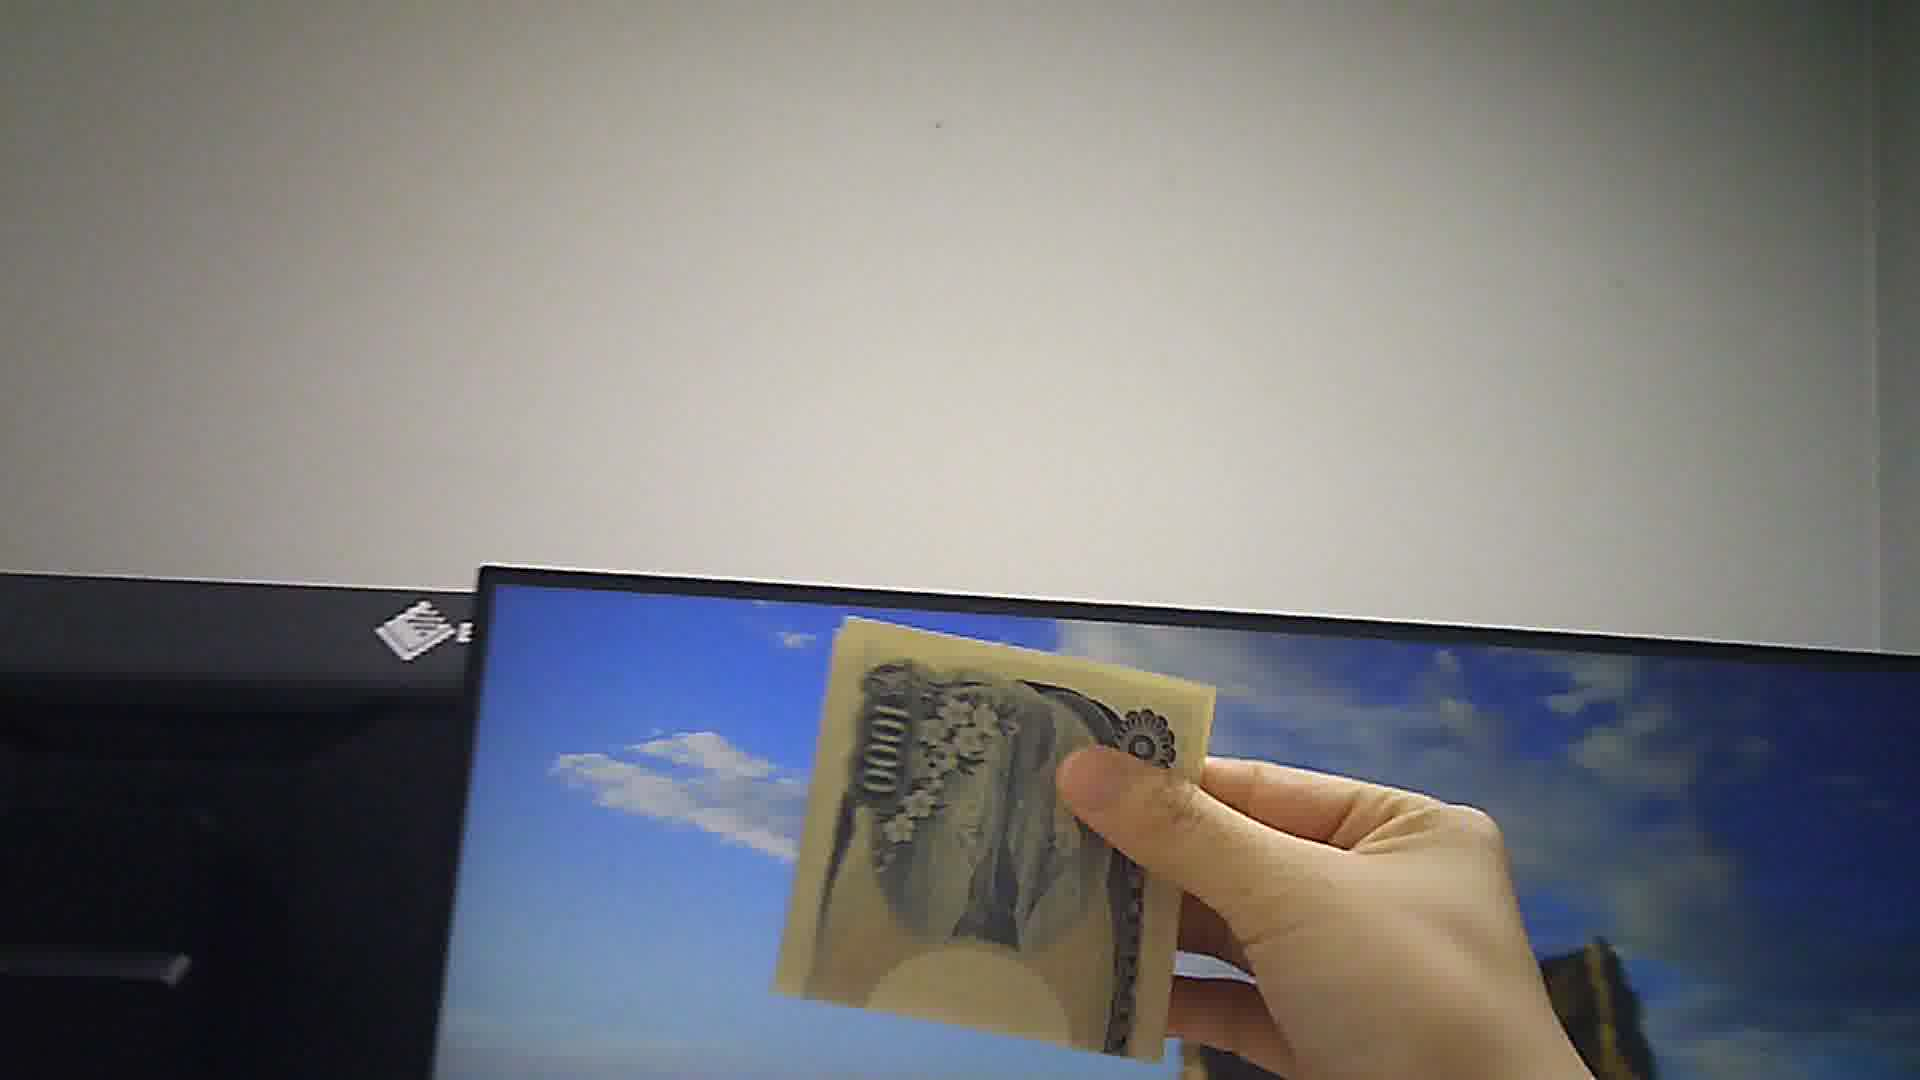1,000 Yen: (789, 609, 1197, 1079)
